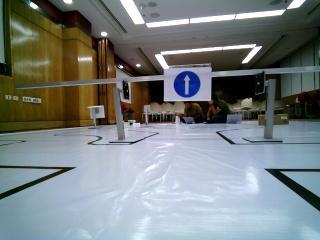straight: (163, 69, 215, 102)
